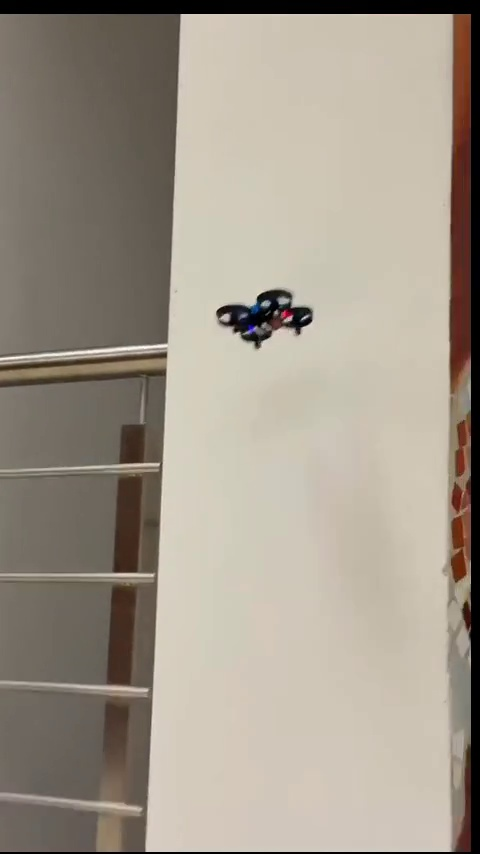drone: (217, 286, 318, 351)
